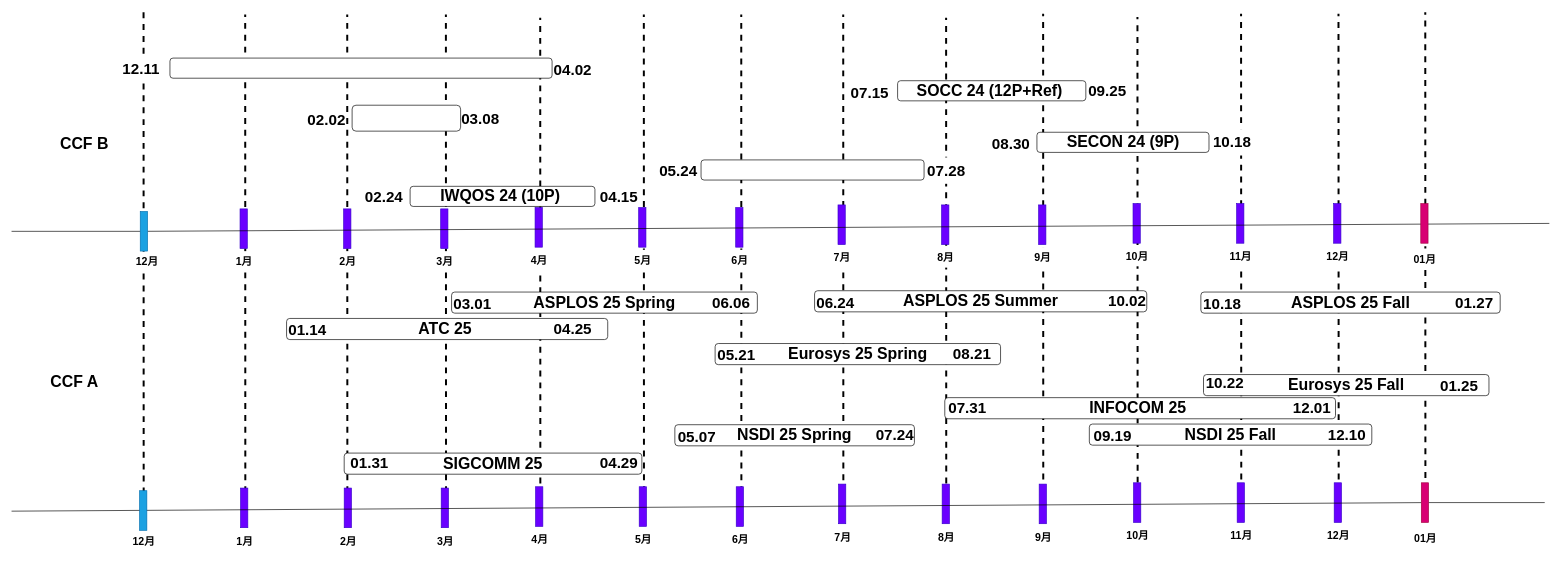
The diagram is 1562 pixels wide and 562 high, and some of its shapes have lost their labels. The shapes that lost their labels are listed below. From the top down, each one's centre as x and y in pixels, then its label:
At (360,67): "ICDCS 24 (11P+Ref)".
At (406,118): "NOSSDAV 24 (6P+1Ref)".
At (812,169): "ICNP 24 (10P+Ref)".
